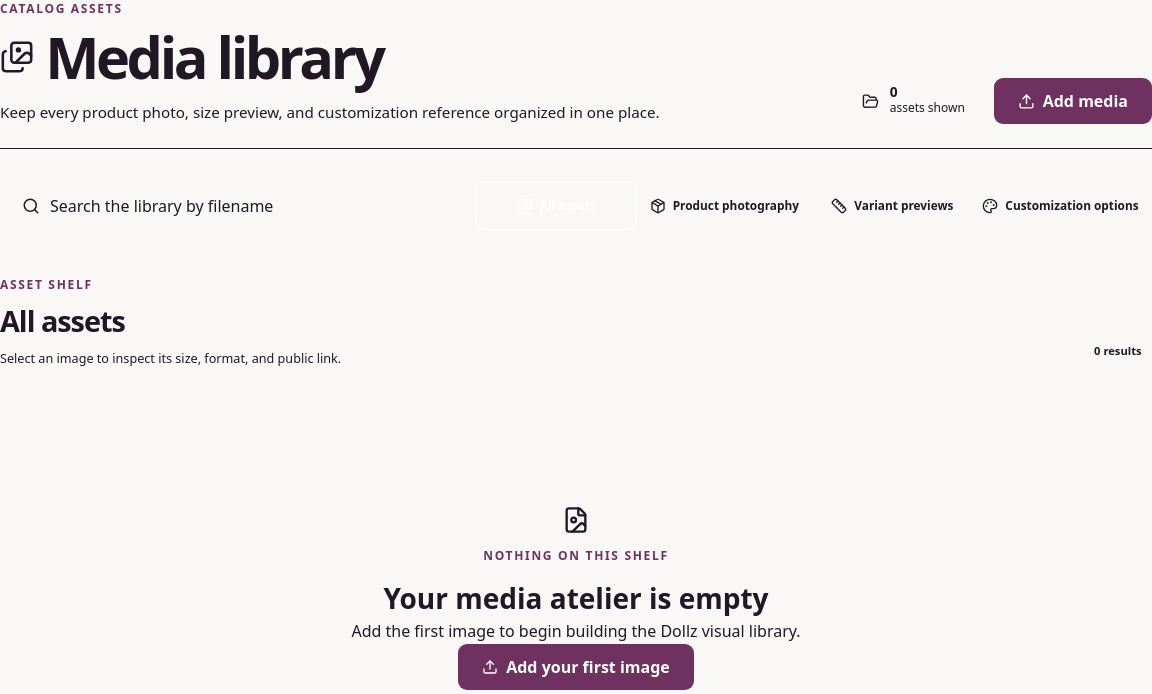
Test: media library workbench › opens a guided upload modal from the first-library empty state
Check: the heading "Your media atelier is empty" is shown, box x1=383 y1=577 x2=768 y2=619
Click the button "Add your first image" at point(576, 667), box x1=458 y1=644 x2=694 y2=690
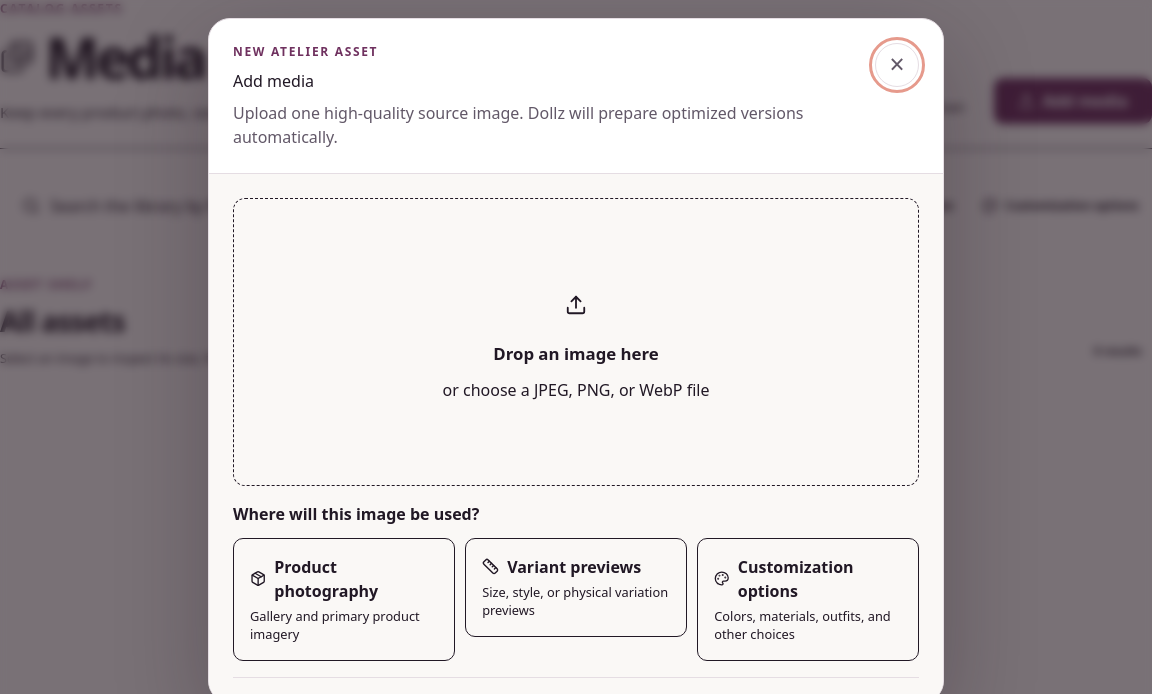
Check: the dialog "Add media" shows "Where will this image be used?", box x1=233 y1=502 x2=479 y2=524
Check: the dialog "Add media" shows "Product photography", box x1=274 y1=556 x2=378 y2=602
Check: the dialog "Add media" shows "Variant previews", box x1=507 y1=556 x2=641 y2=578
